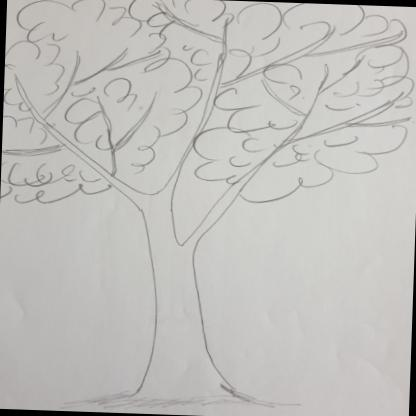branch_line: (14, 4, 411, 258)
crown_dizzy: (1, 0, 416, 216)
root_none: (66, 372, 317, 416)
trunk_straight: (136, 254, 222, 349)
